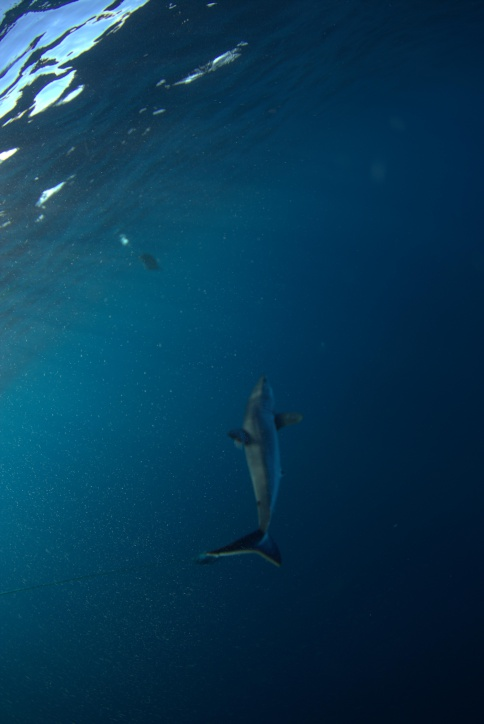Mako: (181, 352, 317, 579)
